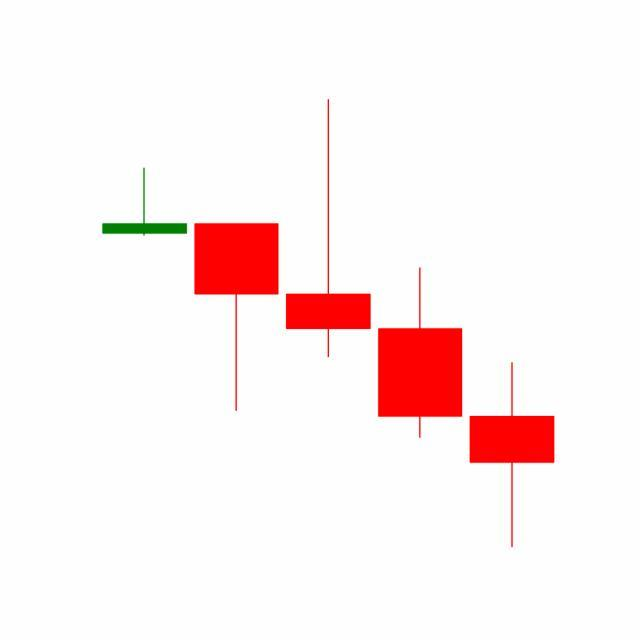Spinning Top: (466, 360, 559, 550)
